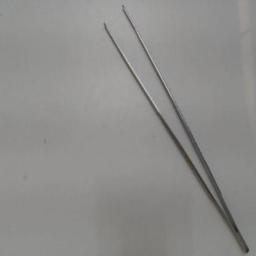DeBakey Dissector: (99, 4, 251, 252)
